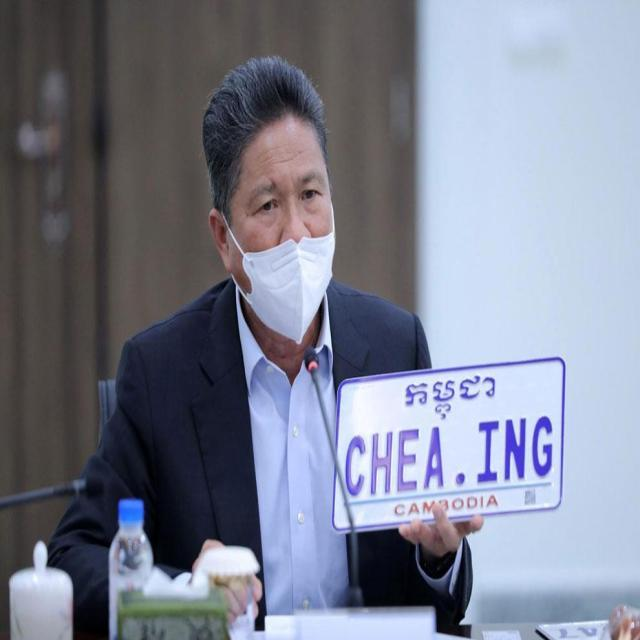Cambodia: (405, 374, 494, 421)
